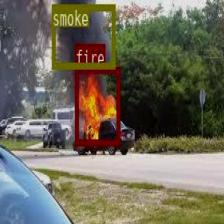fire: (74, 66, 120, 144)
smoke: (51, 3, 115, 68)
